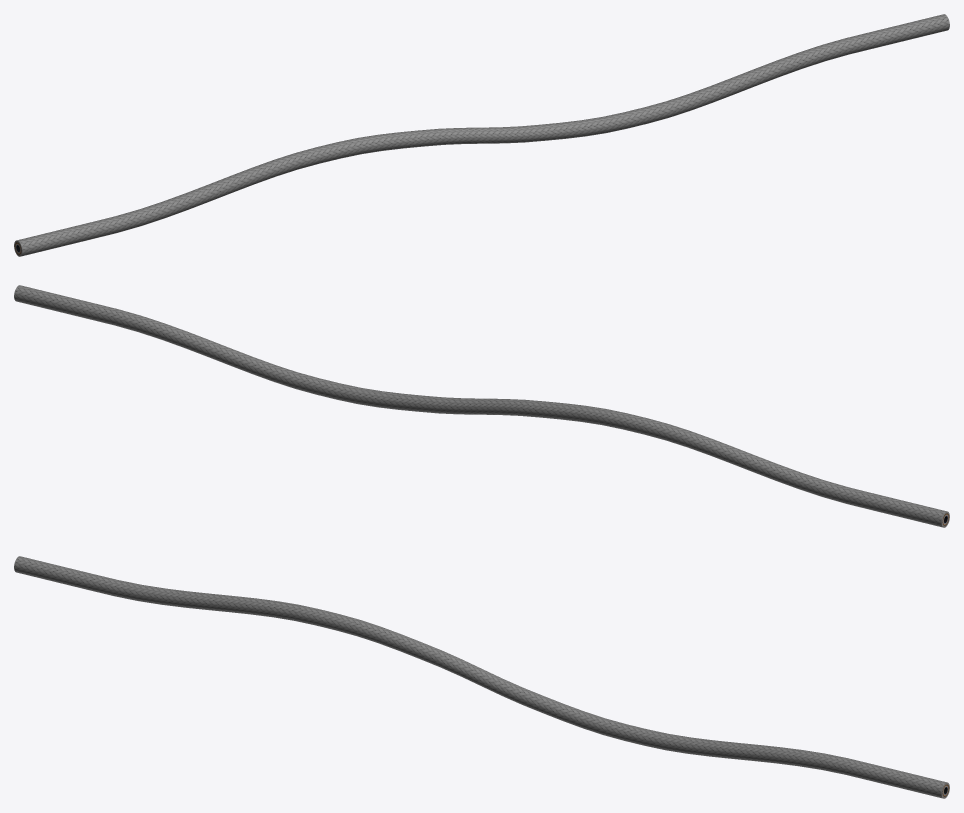
3 renders of one model, top to bottom at view 1: azimuth 30°, elevation 25°; view 2: azimuth 150°, elevation 25°; view 3: azimuth 330°, elevation 25°, orthographic.
Visible parts, largest first — view 1: SB_SS-02; view 2: SB_SS-02; view 3: SB_SS-02.
Part boxes in pixels (x1,y1,x2,y2): SB_SS-02: [14, 14, 949, 256]; SB_SS-02: [14, 285, 949, 527]; SB_SS-02: [14, 556, 949, 798].
Size of the model in its own units: 0.3074 by 0.0175 by 0.00483.
Materials: 2 (2 with a texture image).
